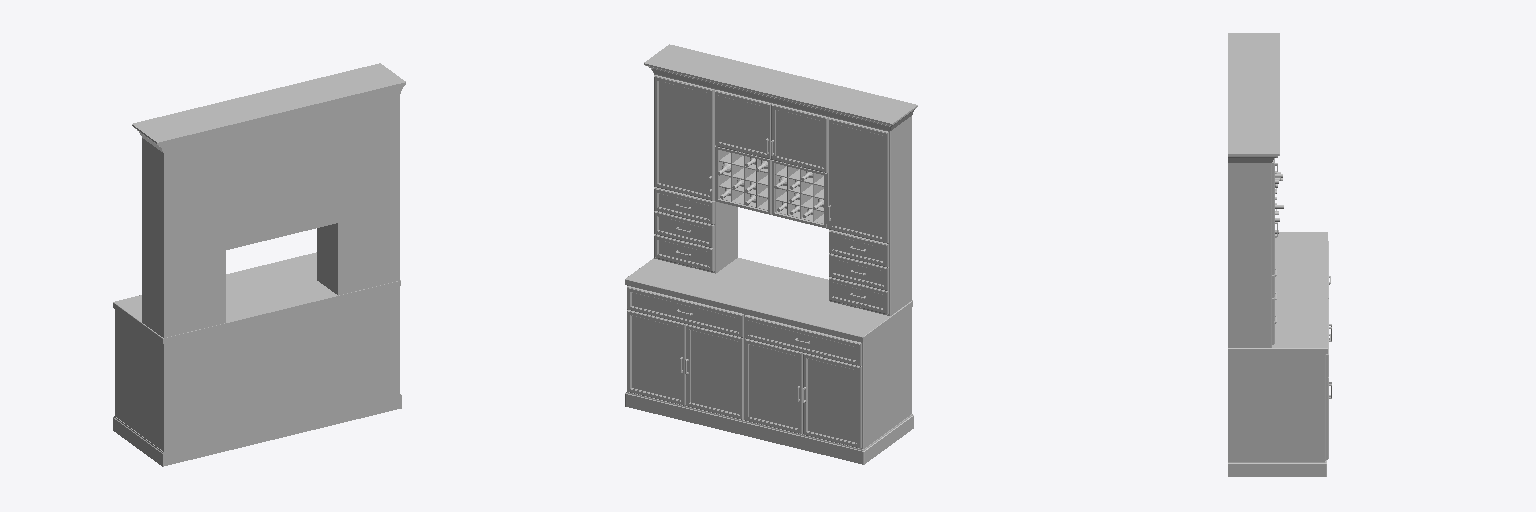
The model's file is modern_cabinet_hutch.obj.
3 renders of one model, left to right at view 1: azimuth 30°, elevation 25°; view 2: azimuth 150°, elevation 25°; view 3: azimuth 270°, elevation 25°, orthographic.
Visible parts, largest first — view 1: cabinet_hutch; view 2: cabinet_hutch; view 3: cabinet_hutch.
Part boxes in pixels (x1,y1,x2,y2): cabinet_hutch: (113, 63, 405, 466); cabinet_hutch: (625, 44, 917, 464); cabinet_hutch: (1228, 33, 1331, 476).
Size of the model in its own units: 1.96 by 2.44 by 0.7124.